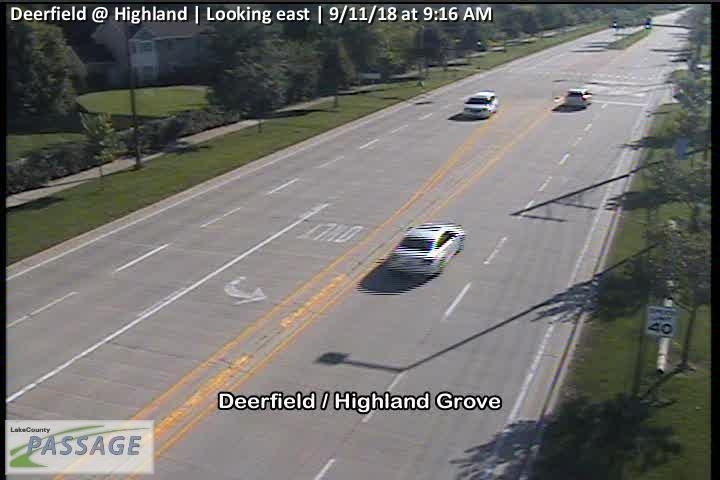Sedan: (387, 223, 464, 275), (464, 92, 498, 119), (565, 88, 592, 107)
